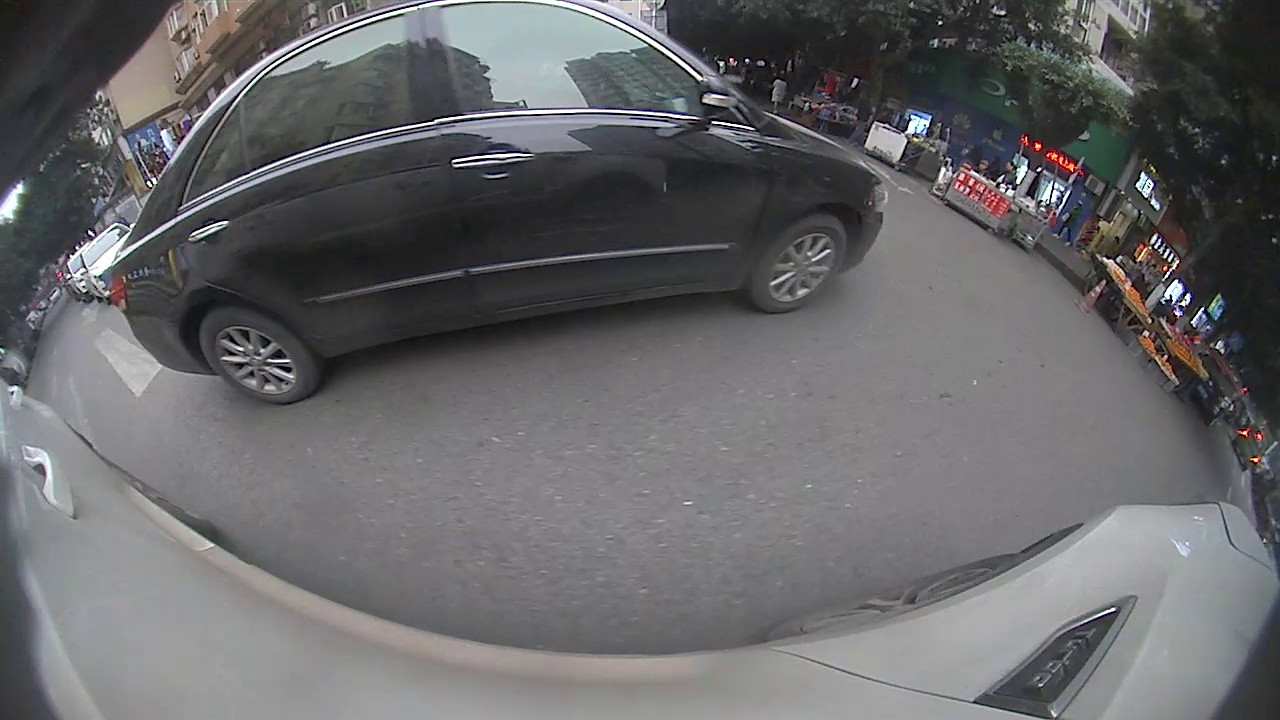car: (106, 2, 889, 405), (77, 220, 136, 306)
front: (749, 211, 864, 313)
rear: (193, 304, 315, 406)
